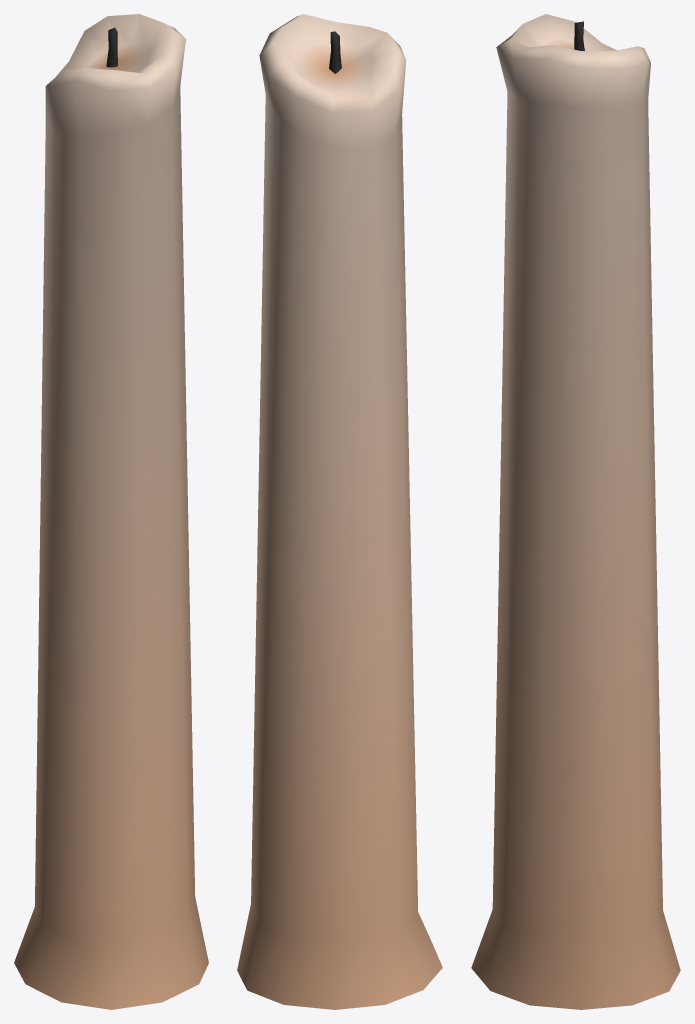
Rendered from Candle.fbx.
3 views of the same model, side by side, from view 1: azimuth 30°, elevation 25°; view 2: azimuth 150°, elevation 25°; view 3: azimuth 270°, elevation 25° (orthographic).
Visible parts, largest first — view 1: Candle; view 2: Candle; view 3: Candle.
Part boxes in pixels (x1=…): Candle: x1=14, y1=14, x2=208, y2=1009; Candle: x1=237, y1=14, x2=442, y2=1009; Candle: x1=471, y1=14, x2=680, y2=1009.
Size of the model in its own units: 3.82 by 20.2 by 4.04.
